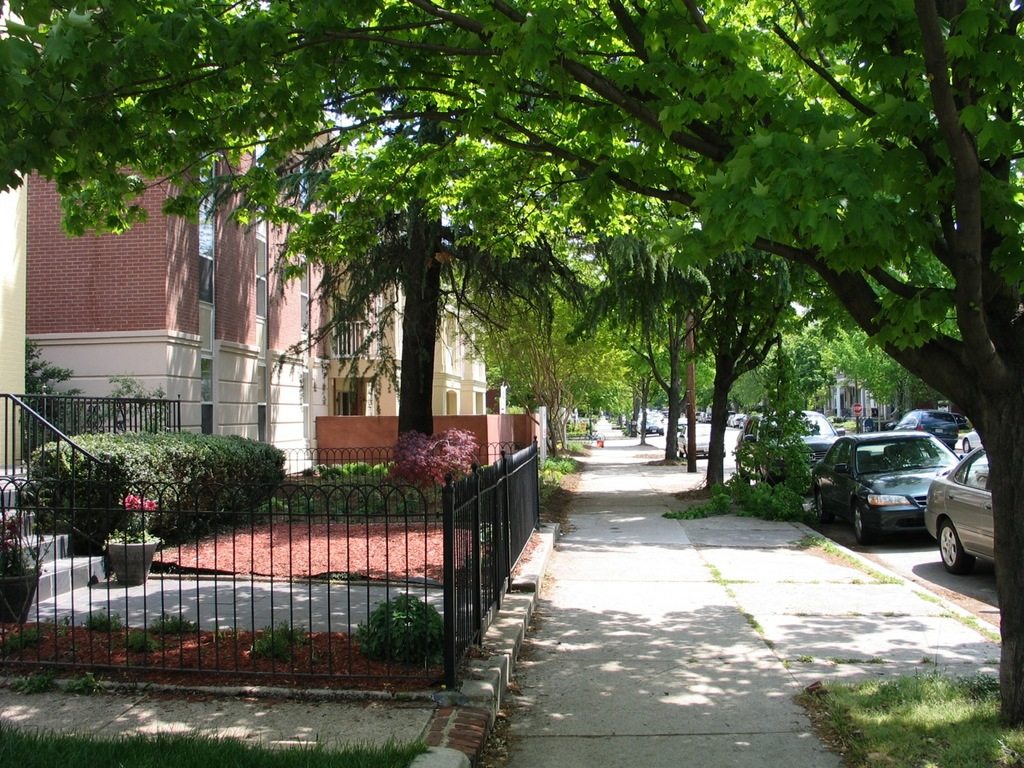Tree: (0, 0, 1023, 750)
